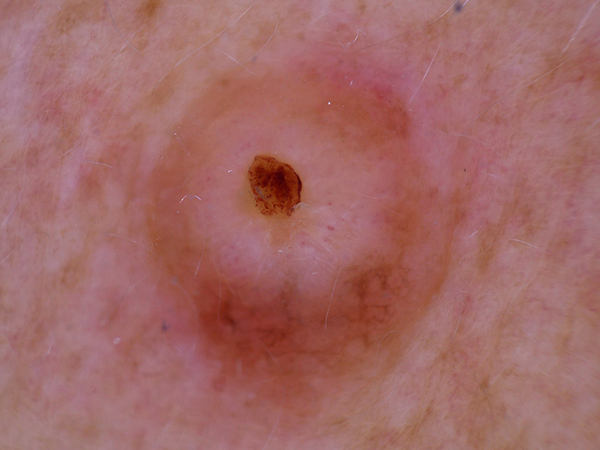Detected Lesion: (158, 87, 439, 395)
